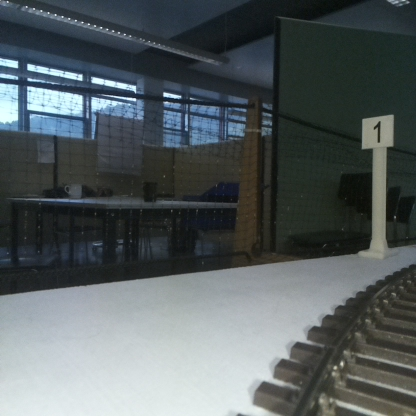white-info-1: (362, 115, 393, 255)
